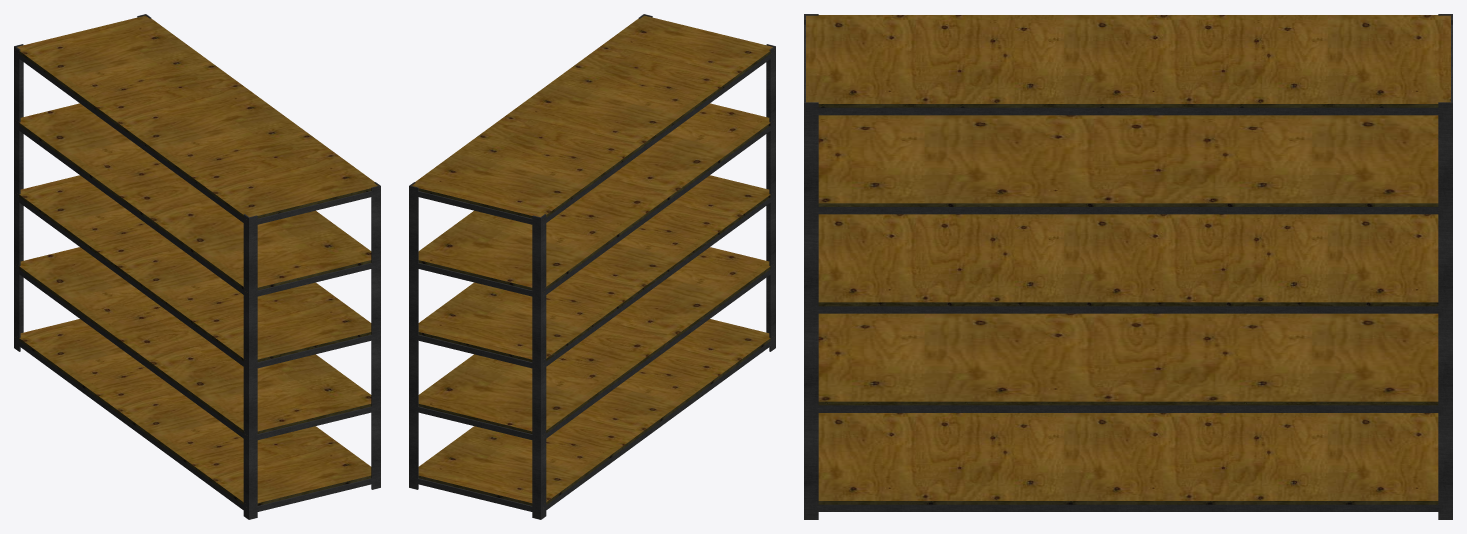
Rendered from Rack_Processed.glb.
The picture shows the model from 3 angles, left to right: view 1: azimuth 30°, elevation 25°; view 2: azimuth 150°, elevation 25°; view 3: azimuth 270°, elevation 25°; orthographic projection. The views are drawn at different scales.
Parts seen in each view (by area): view 1: Mesh1_Wood_Plywood_Knots_0, Model; view 2: Mesh1_Wood_Plywood_Knots_0, Model; view 3: Mesh1_Wood_Plywood_Knots_0, Model.
Part boxes in pixels (x1,y1,x2,y2): Mesh1_Wood_Plywood_Knots_0: (17, 15, 377, 502); Model: (14, 14, 380, 519); Mesh1_Wood_Plywood_Knots_0: (412, 15, 772, 502); Model: (409, 14, 775, 519); Mesh1_Wood_Plywood_Knots_0: (806, 15, 1450, 500); Model: (804, 14, 1452, 519).
Size of the model in its own units: 10.21 by 22.27 by 31.41.
4 materials, 4 textured.
